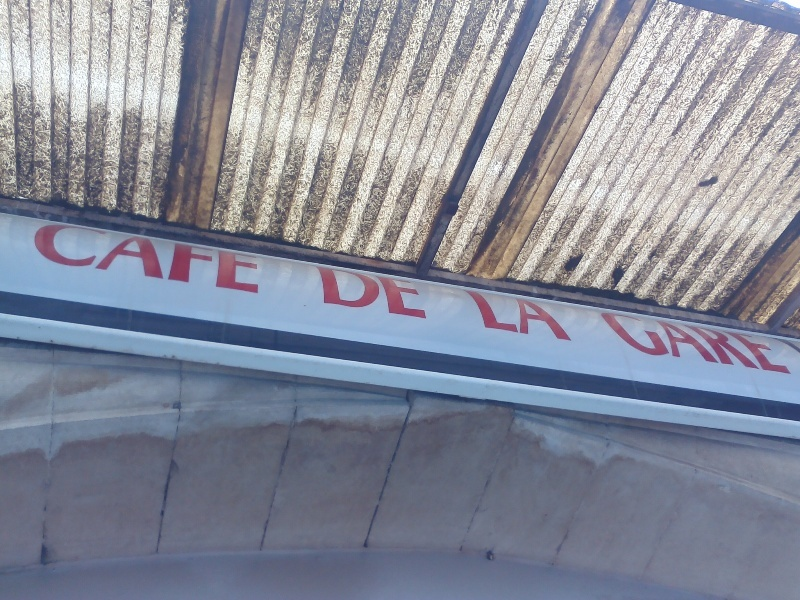text: (49, 218, 64, 295), (65, 218, 80, 295), (81, 218, 96, 295), (97, 218, 112, 295), (113, 218, 128, 295), (129, 218, 144, 295), (145, 218, 160, 295), (161, 218, 176, 295), (177, 218, 192, 295), (193, 218, 208, 295), (209, 218, 224, 295), (225, 218, 240, 295), (241, 218, 256, 295), (34, 218, 48, 295), (593, 308, 608, 379), (609, 308, 624, 379), (625, 308, 640, 379), (641, 308, 656, 379), (657, 308, 672, 379), (673, 308, 688, 379), (689, 308, 704, 379), (705, 308, 720, 379), (721, 308, 736, 379), (737, 308, 752, 379), (753, 308, 768, 379), (769, 308, 784, 379), (785, 308, 797, 379), (321, 267, 336, 320), (337, 267, 352, 320), (353, 267, 368, 320), (369, 267, 384, 320), (385, 267, 400, 320), (401, 267, 416, 320), (465, 289, 480, 342), (481, 289, 496, 342), (497, 289, 512, 342), (513, 289, 528, 342), (529, 289, 544, 342), (545, 289, 560, 342), (561, 289, 573, 342), (417, 267, 428, 320), (257, 218, 264, 295), (316, 267, 320, 320), (463, 289, 464, 342)
